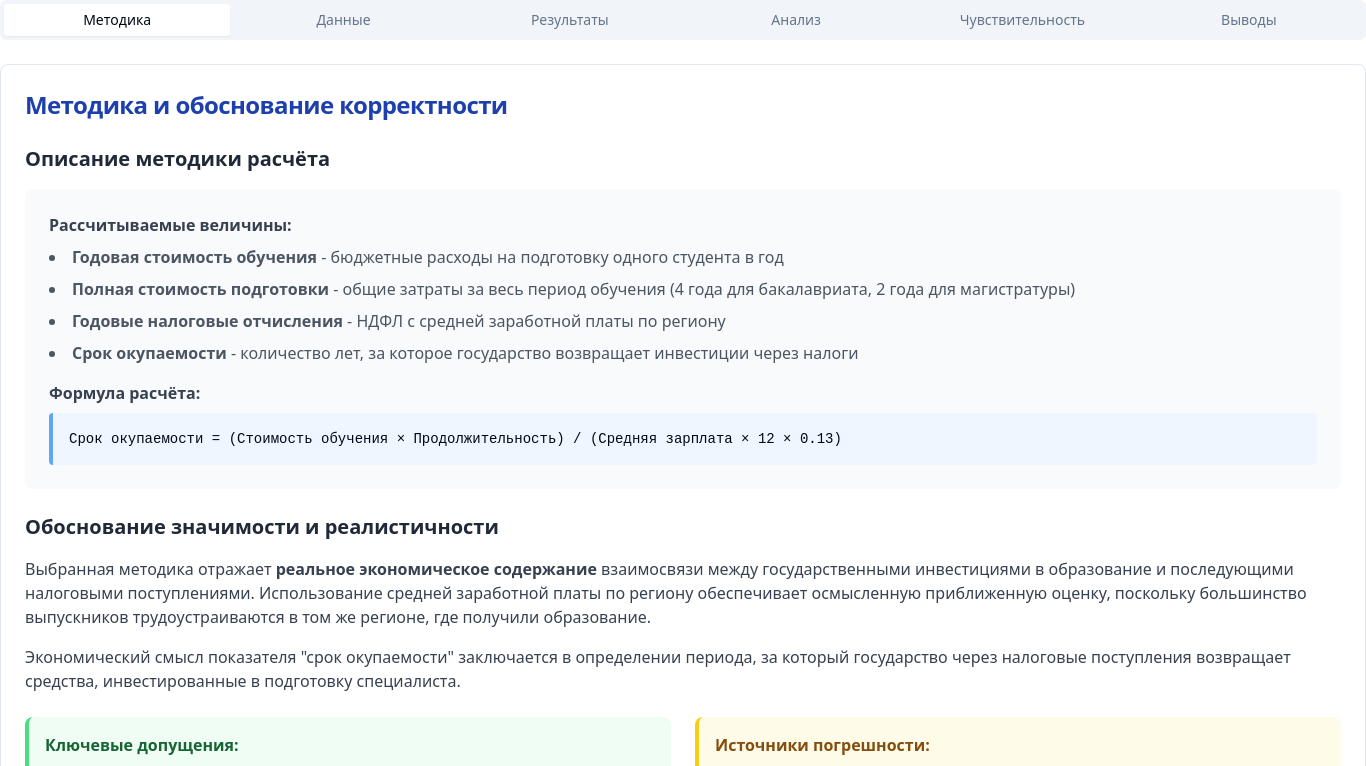
Test case: ResearchTabs › должен переключаться между табами при клике
// Кликаем на таб "Данные"
Click the tab "Данные": [343, 20] box [230,4,457,36]
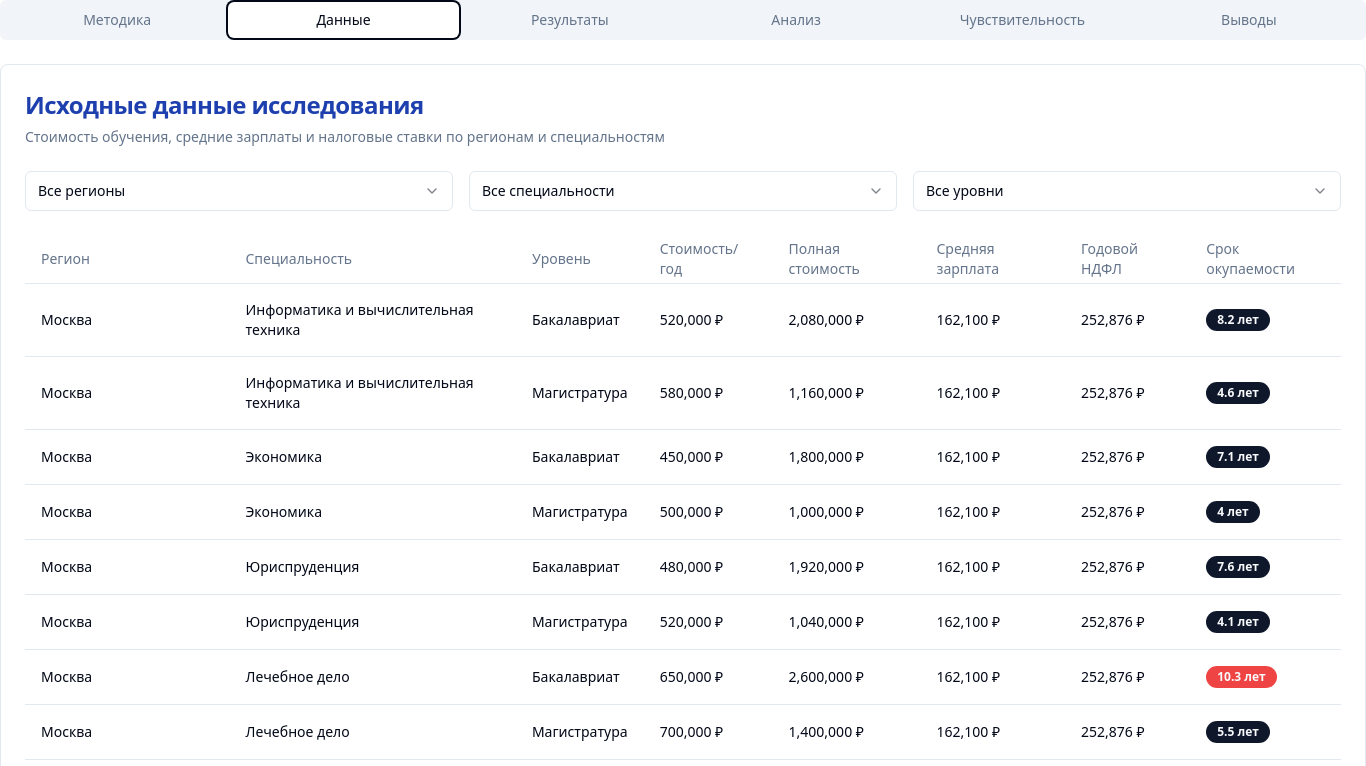
Now the heading "Исходные данные исследования" is shown, box [25,88,424,121]
